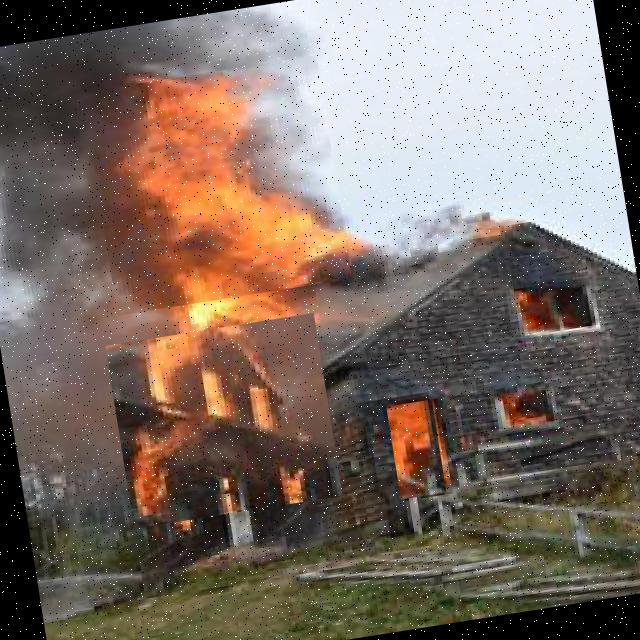fire: (82, 56, 352, 316), (105, 312, 342, 528), (386, 400, 446, 500)
